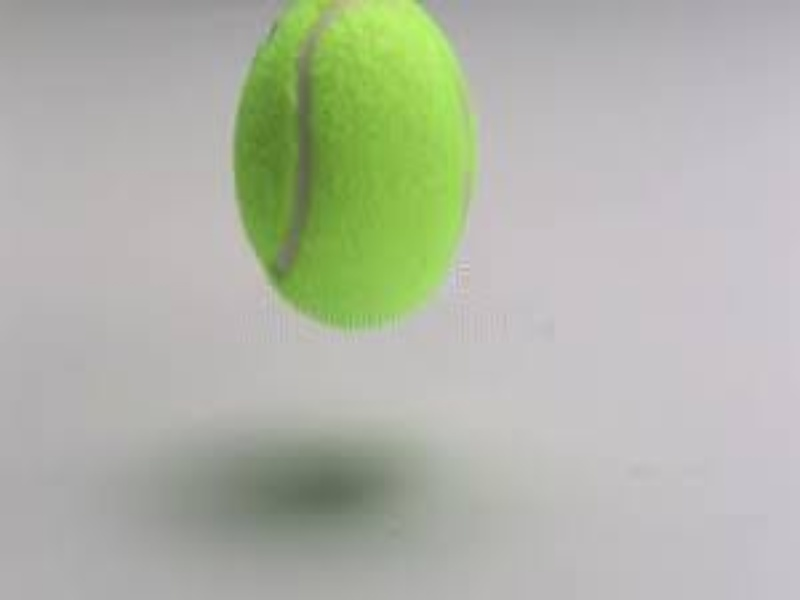tennis ball: (224, 6, 487, 338)
